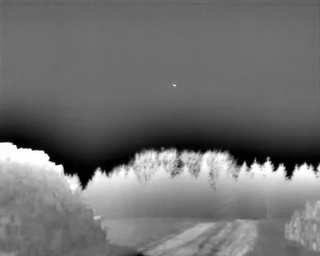AIRPLANE: (171, 82, 178, 89)
